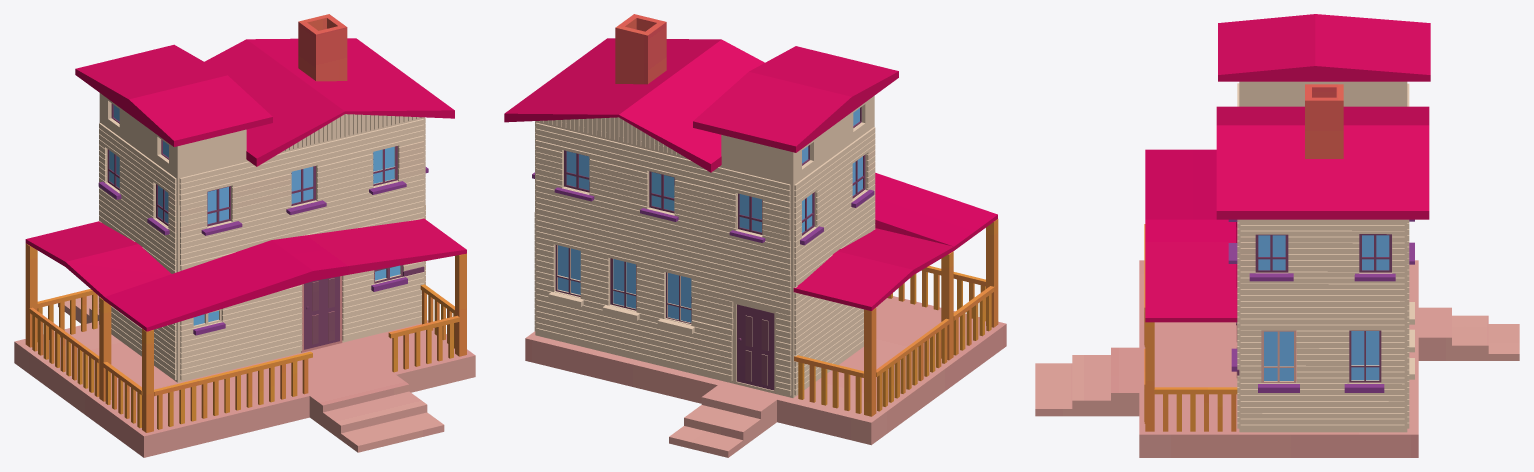
Rendered from House.fbx.
3 renders of one model, left to right at view 1: azimuth 30°, elevation 25°; view 2: azimuth 150°, elevation 25°; view 3: azimuth 270°, elevation 25°, orthographic. The views are drawn at different scales.
Visible parts, largest first — view 1: House; view 2: House; view 3: House.
Boxes of the visible parts, x1,y1,x2,y2 form: House: (14,14,475,457); House: (504,14,1006,457); House: (1035,14,1519,457).
Size of the model in its own units: 2.3 by 1.94 by 2.58.
